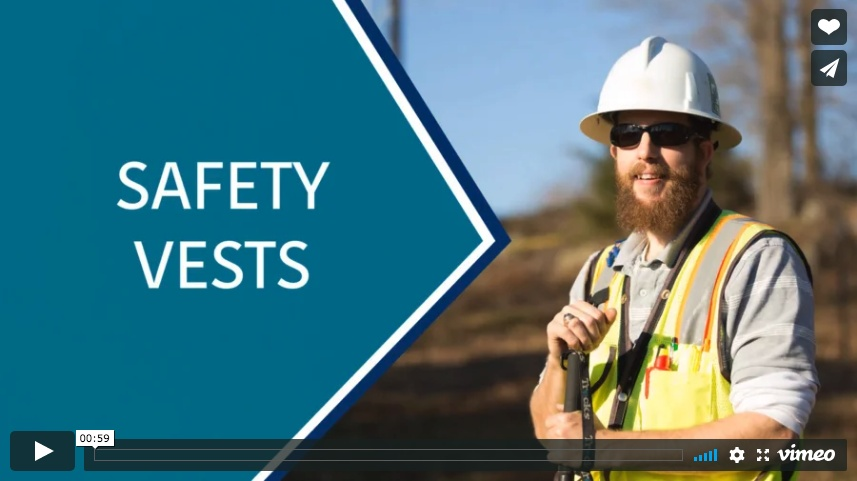helmet: (582, 37, 741, 143)
person with full safety: (537, 37, 821, 433)
safety vest: (583, 209, 768, 440)
